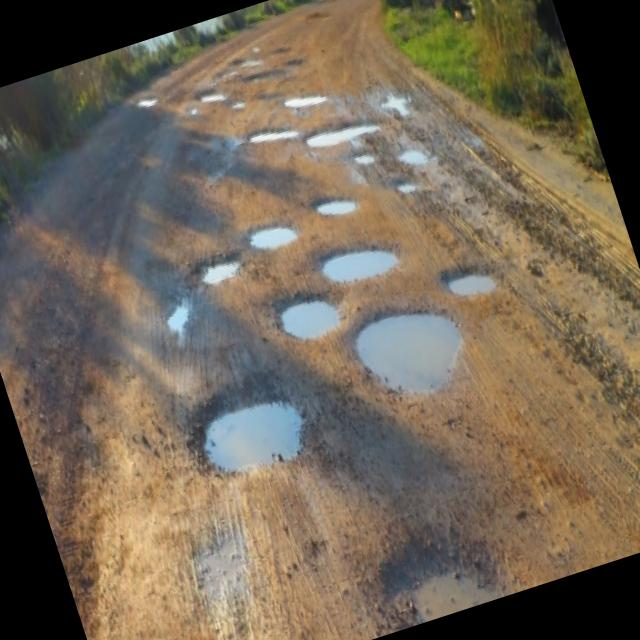Potholes: (186, 337, 332, 508), (358, 282, 485, 439), (378, 514, 504, 630), (312, 220, 416, 306), (271, 276, 350, 354), (184, 214, 252, 294), (296, 101, 386, 156), (242, 205, 308, 271), (438, 250, 502, 313), (246, 108, 310, 166), (276, 71, 338, 119), (386, 129, 439, 184), (311, 181, 364, 231), (375, 75, 417, 132), (190, 78, 240, 120), (392, 172, 428, 215)
